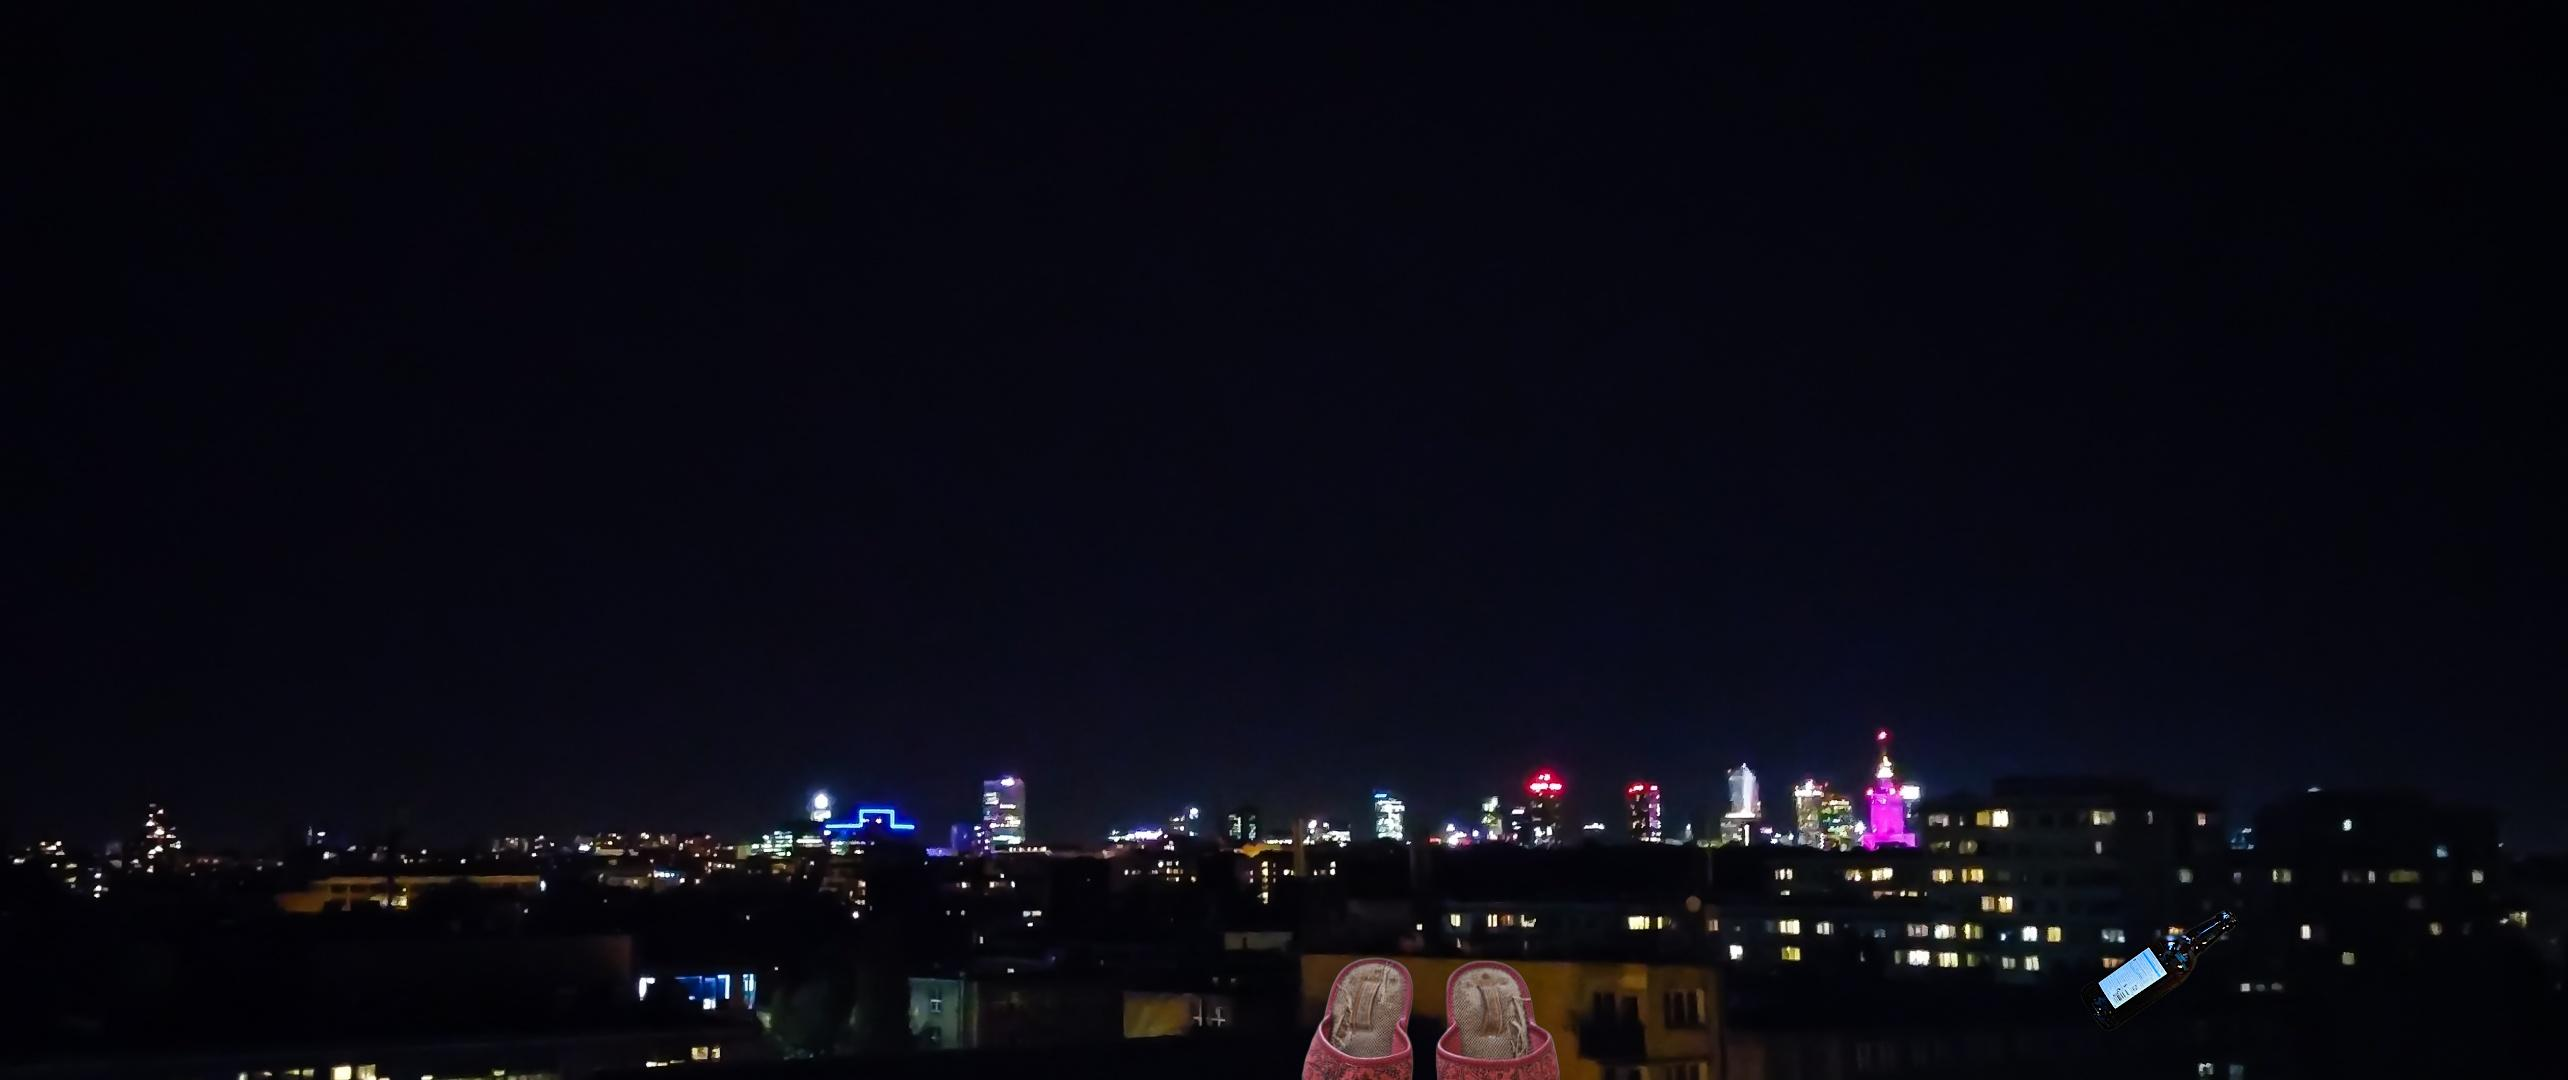glass: (2077, 905, 2244, 1036)
shoes: (1277, 952, 1576, 1080)
